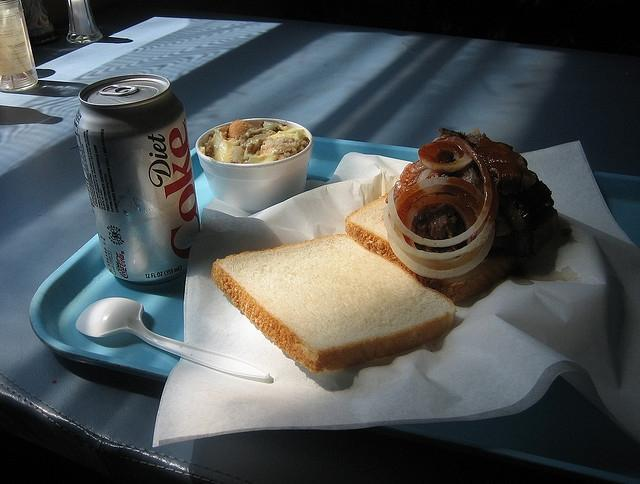onion: (388, 137, 492, 247), (388, 176, 495, 280), (382, 180, 498, 261), (394, 185, 488, 270), (402, 194, 476, 249), (418, 140, 473, 173)
